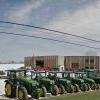Tractor: (7, 62, 78, 100)
